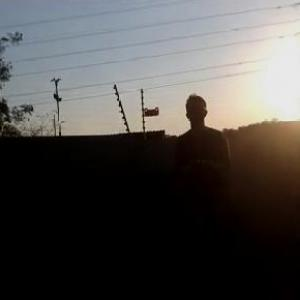follow: (174, 82, 240, 296)
